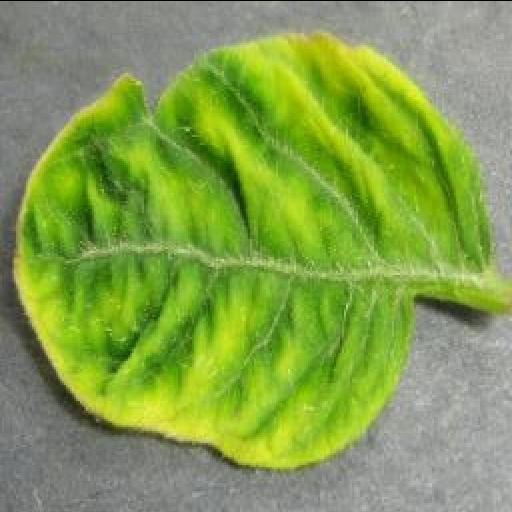disease_tomato: (7, 34, 489, 470)
